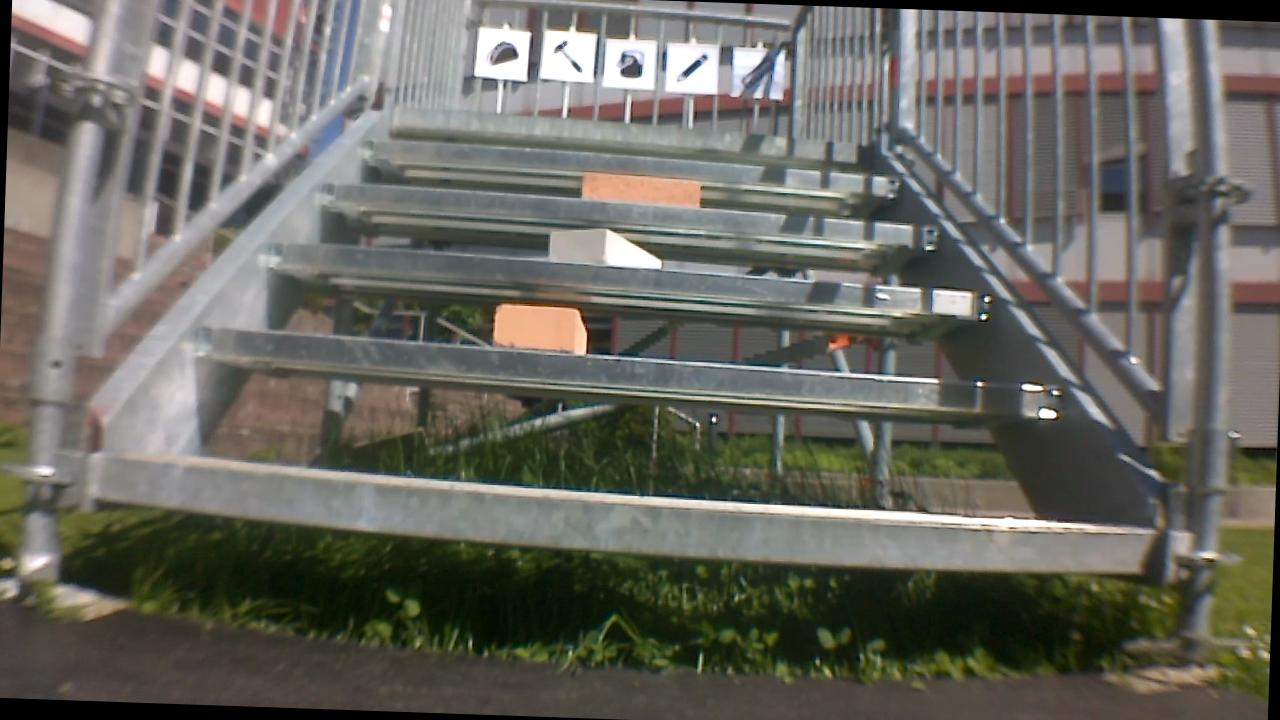brick: (539, 227, 666, 268), (497, 300, 587, 354), (575, 171, 706, 208)
edge: (89, 476, 1170, 586), (174, 325, 1083, 404), (254, 241, 1012, 310), (309, 186, 952, 245), (359, 145, 905, 203), (377, 108, 876, 159)
steps: (62, 104, 1167, 550)
